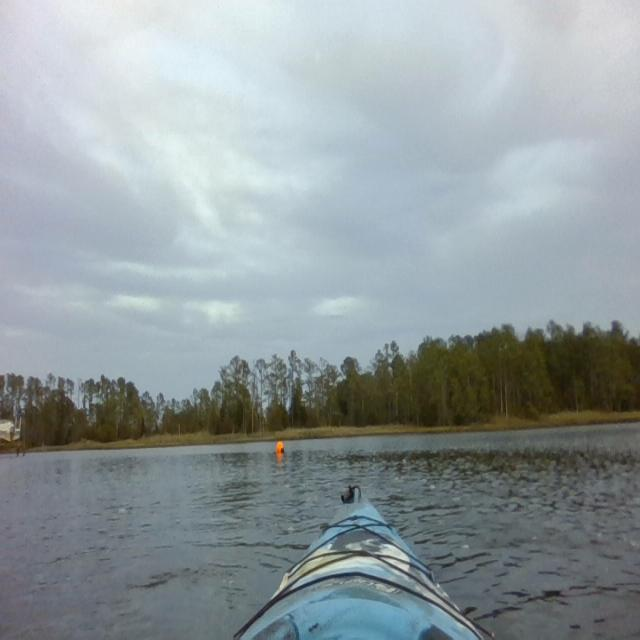Buoy: (274, 436, 286, 456)
